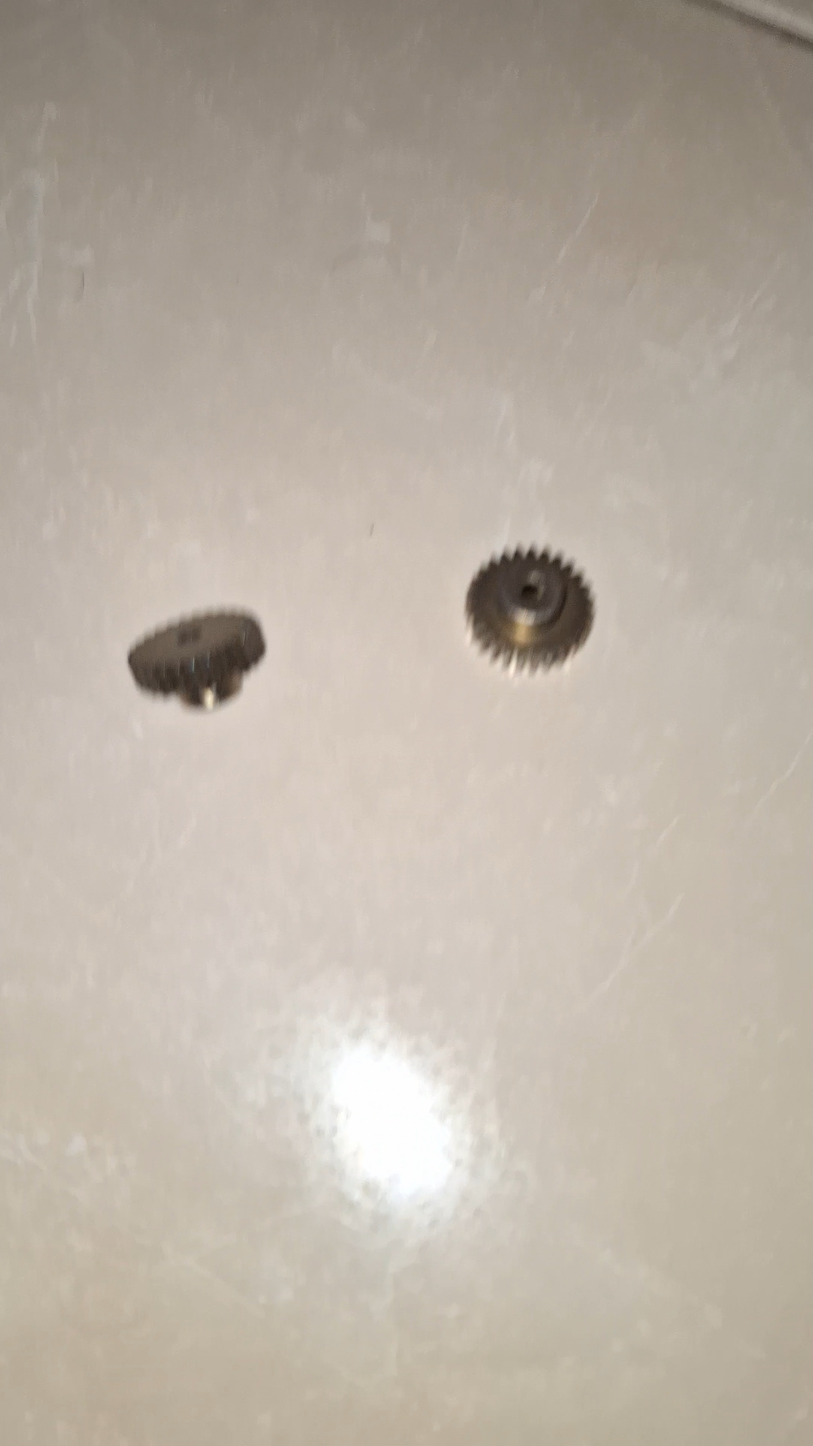spur gear: (466, 550, 593, 670), (128, 612, 264, 708)
